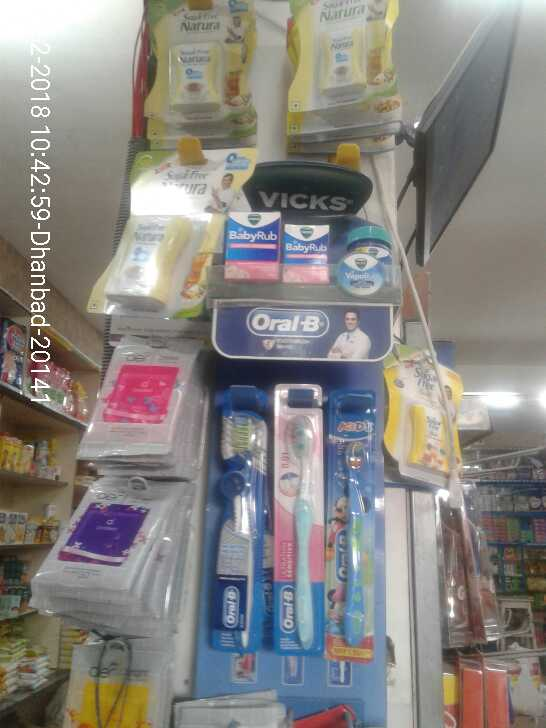pharmacy: (226, 206, 390, 292), (324, 411, 380, 657), (271, 408, 317, 650), (225, 395, 264, 641)
